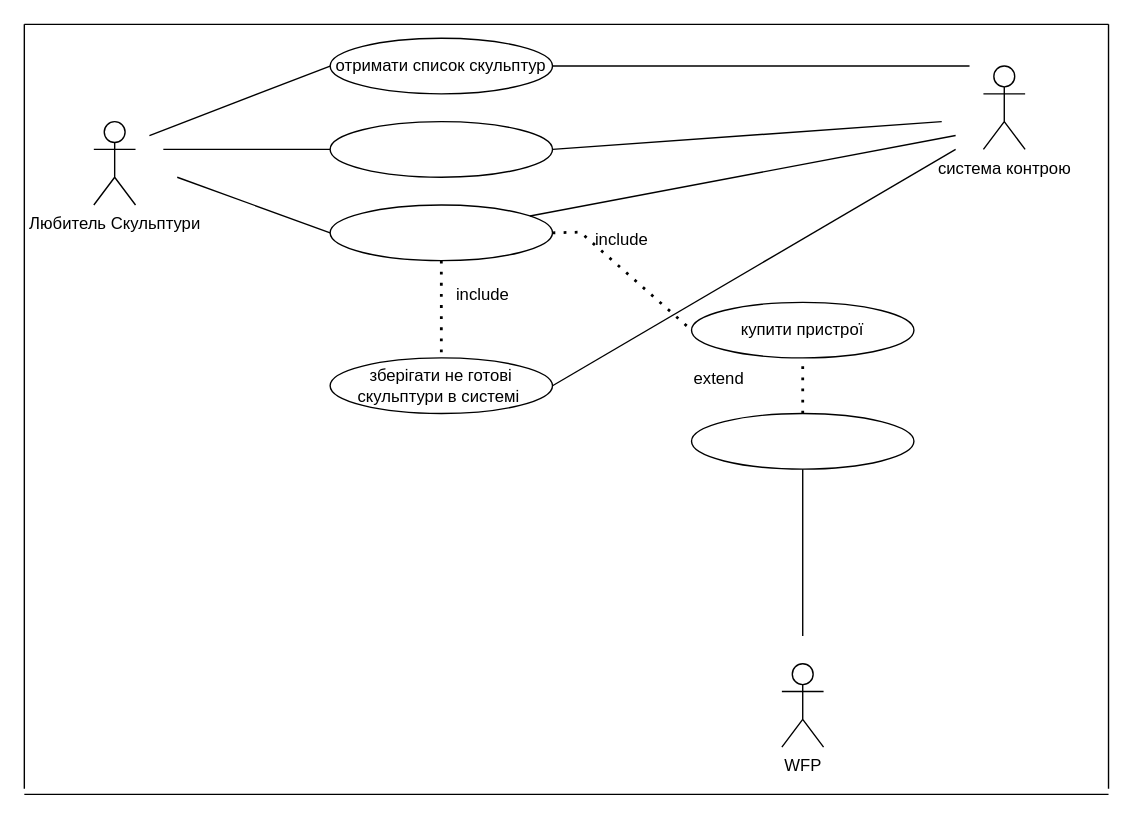
This 1134x820 diagram has some shape labels left out. The shapes that lost their labels are listed below. From the top down, each one's centre as x and y in pixels, then its label:
the point at 441,148: налаштувати зволожувач
the point at 441,232: перегляд скульптур, якими поділилися інші користувачі
the point at 802,440: оплатити рахунок
